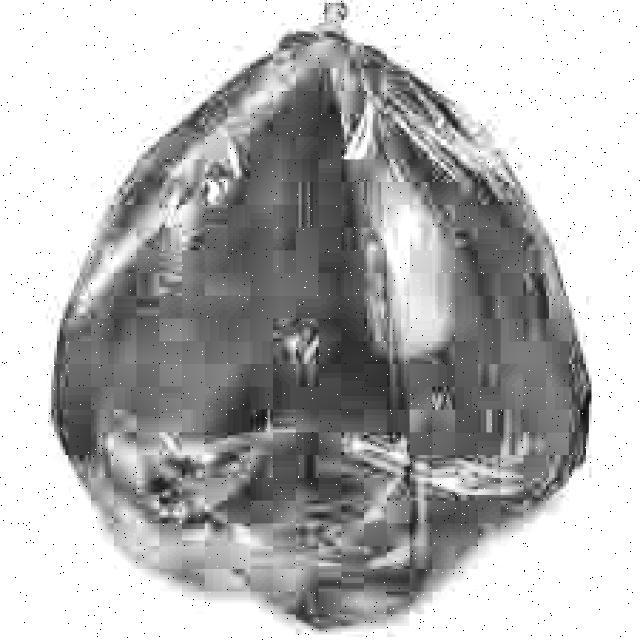Trashbag: (53, 31, 596, 630)
